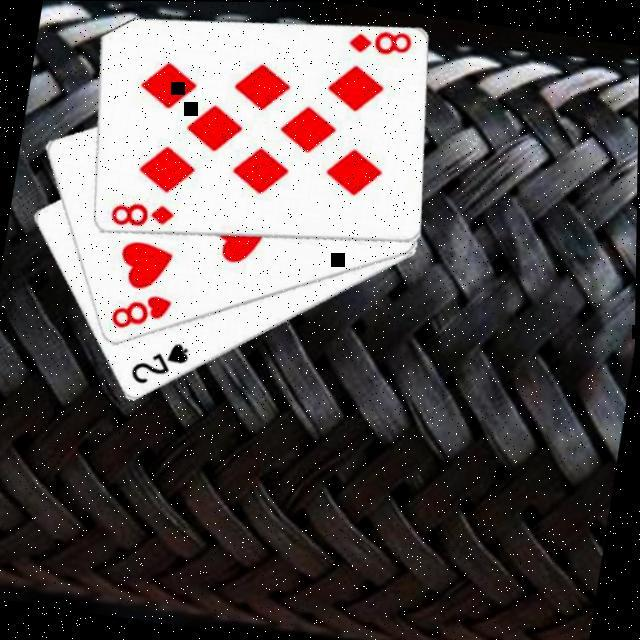2S: (127, 333, 195, 393)
8D: (108, 196, 180, 236), (344, 22, 416, 62)
8H: (108, 286, 179, 338)
